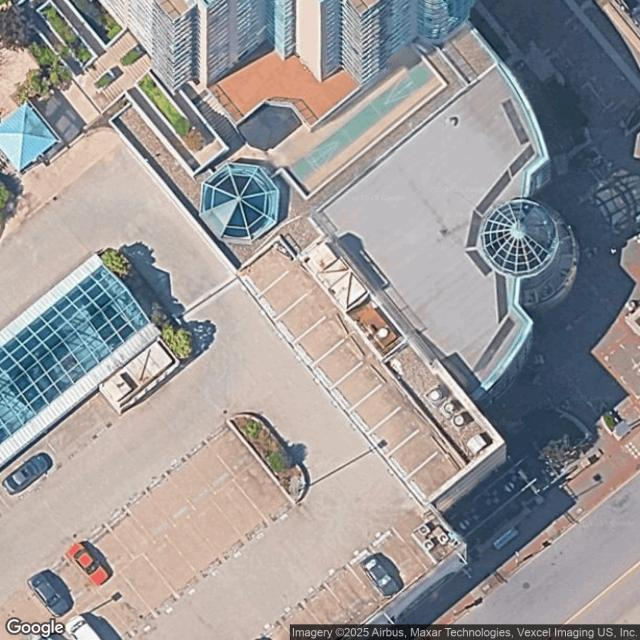car: (0, 443, 63, 502), (22, 568, 77, 621), (353, 550, 405, 602), (63, 539, 115, 591), (63, 612, 104, 639)
lot_boundary: (0, 237, 461, 639)
